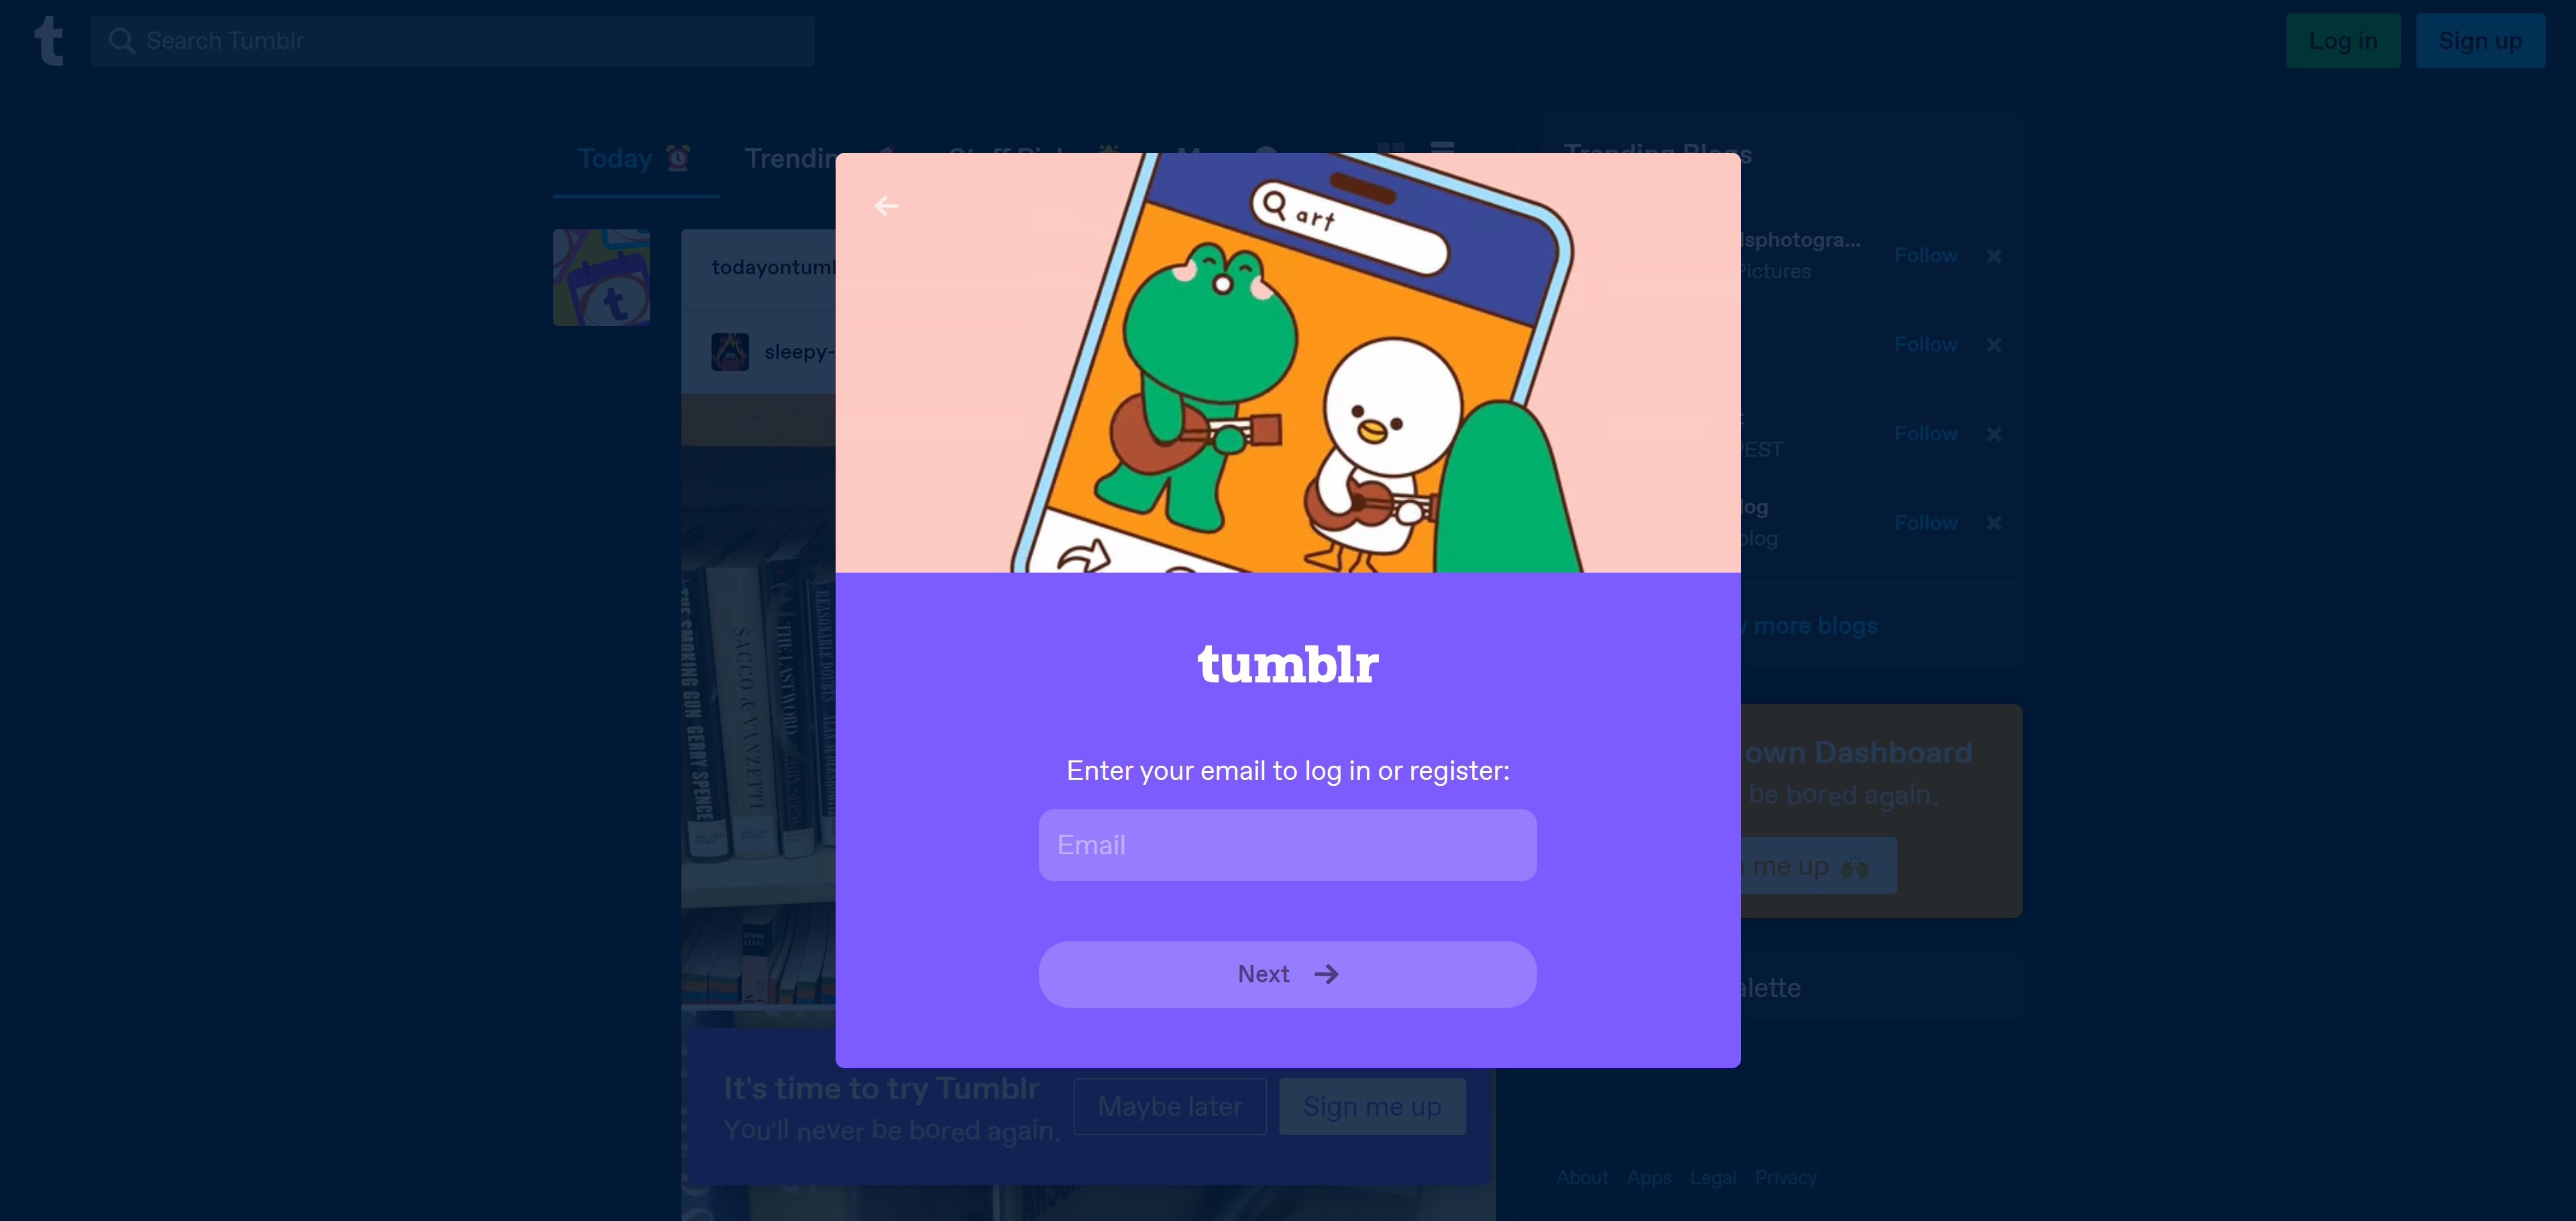login_button: (1038, 942, 1538, 1009)
login_form: (1032, 802, 1544, 1016)
